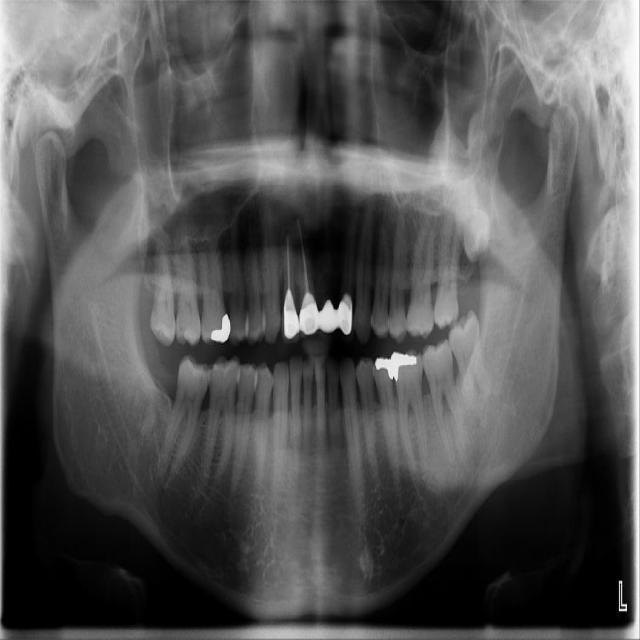3M ESPE Implant: (150, 236, 176, 347)
52: (279, 284, 356, 344), (370, 346, 429, 395), (199, 307, 232, 347)
73: (606, 582, 610, 597)
BioHorizons Implant: (432, 196, 467, 330)
BioLife Implant: (446, 160, 498, 267)
Biomet 3i Implant: (443, 308, 495, 423)
Blue Sky Bio Implant: (419, 337, 470, 470)
Caries: (168, 212, 202, 349)
Implant: (157, 352, 214, 479)
